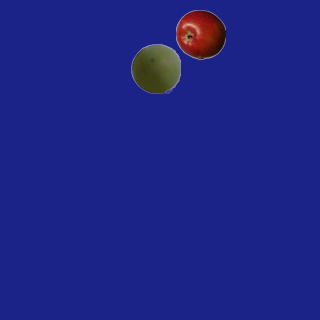Apple Braeburn: (175, 9, 225, 59)
Grape White 4: (130, 43, 180, 93)
